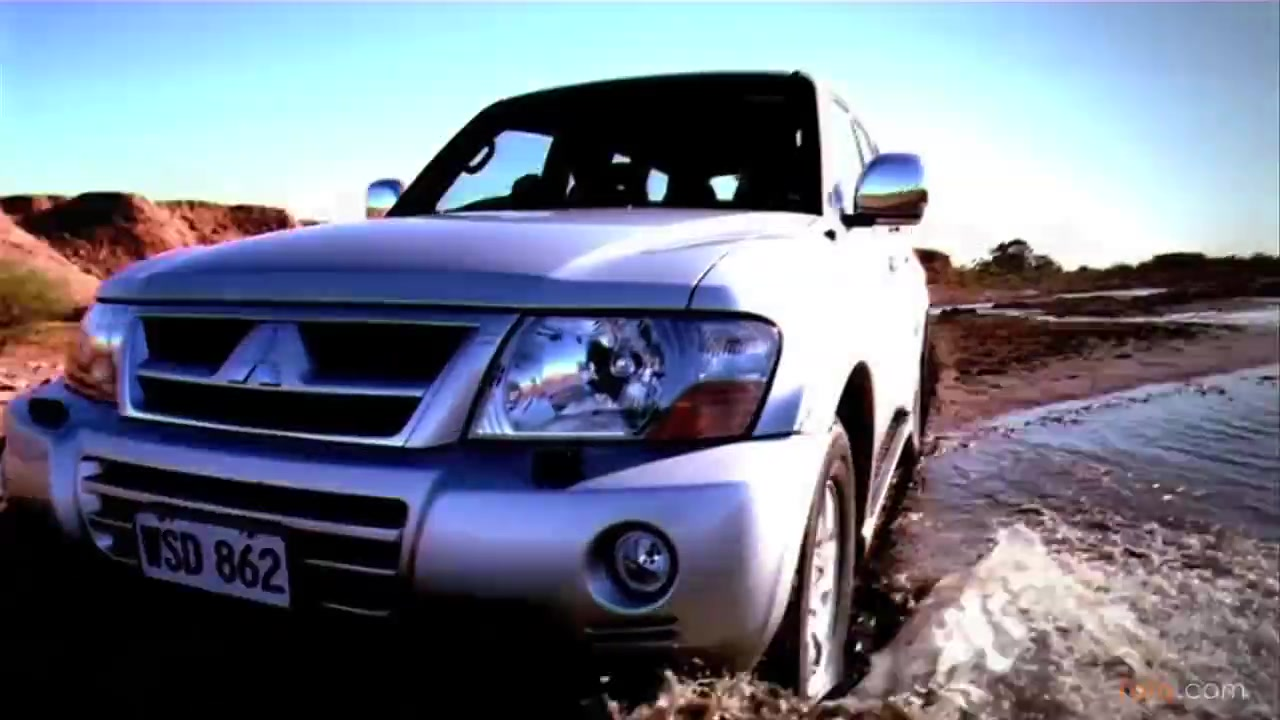car: (8, 70, 940, 713)
